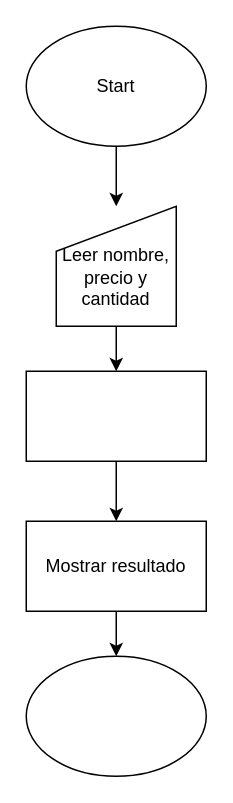
Some shapes in this 233 by 803 pixel diagram are drawn without their labels. Each missing label, with the centre of its shape:
"Calcular costo total" belongs at point (115, 415).
"Fin" belongs at point (115, 715).
